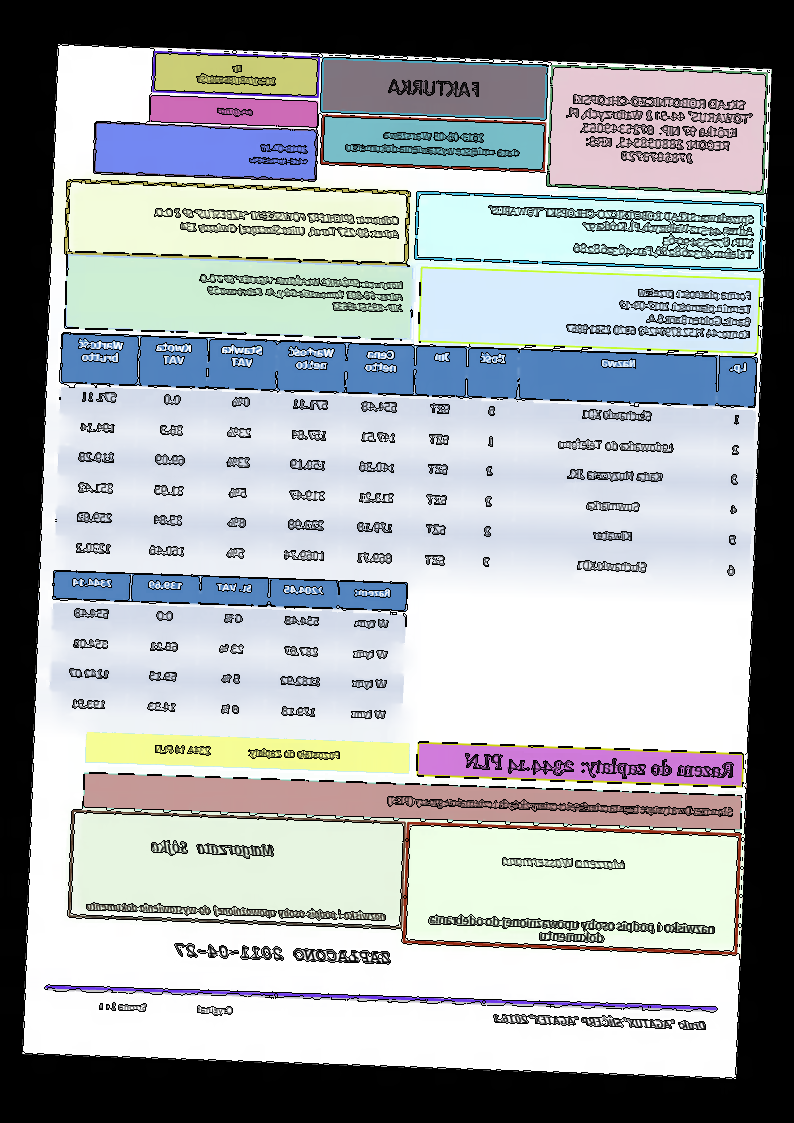Table: (52, 331, 759, 593), (47, 569, 409, 735)
TextBox: (485, 202, 757, 264), (562, 91, 754, 169), (425, 911, 719, 949), (565, 282, 754, 341), (386, 791, 735, 822), (463, 745, 737, 784), (151, 203, 403, 244), (195, 269, 407, 316), (84, 898, 388, 924), (174, 941, 393, 968), (345, 127, 522, 159), (492, 1009, 708, 1032), (152, 739, 344, 764), (95, 996, 237, 1019), (499, 851, 629, 874), (150, 836, 276, 859), (194, 59, 278, 89), (384, 75, 483, 100), (248, 140, 310, 169), (215, 103, 255, 119)
